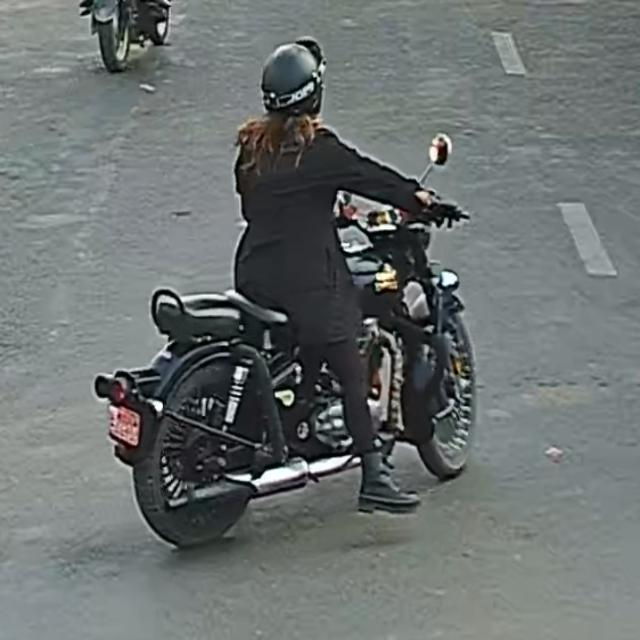license_plate: (106, 392, 148, 455)
